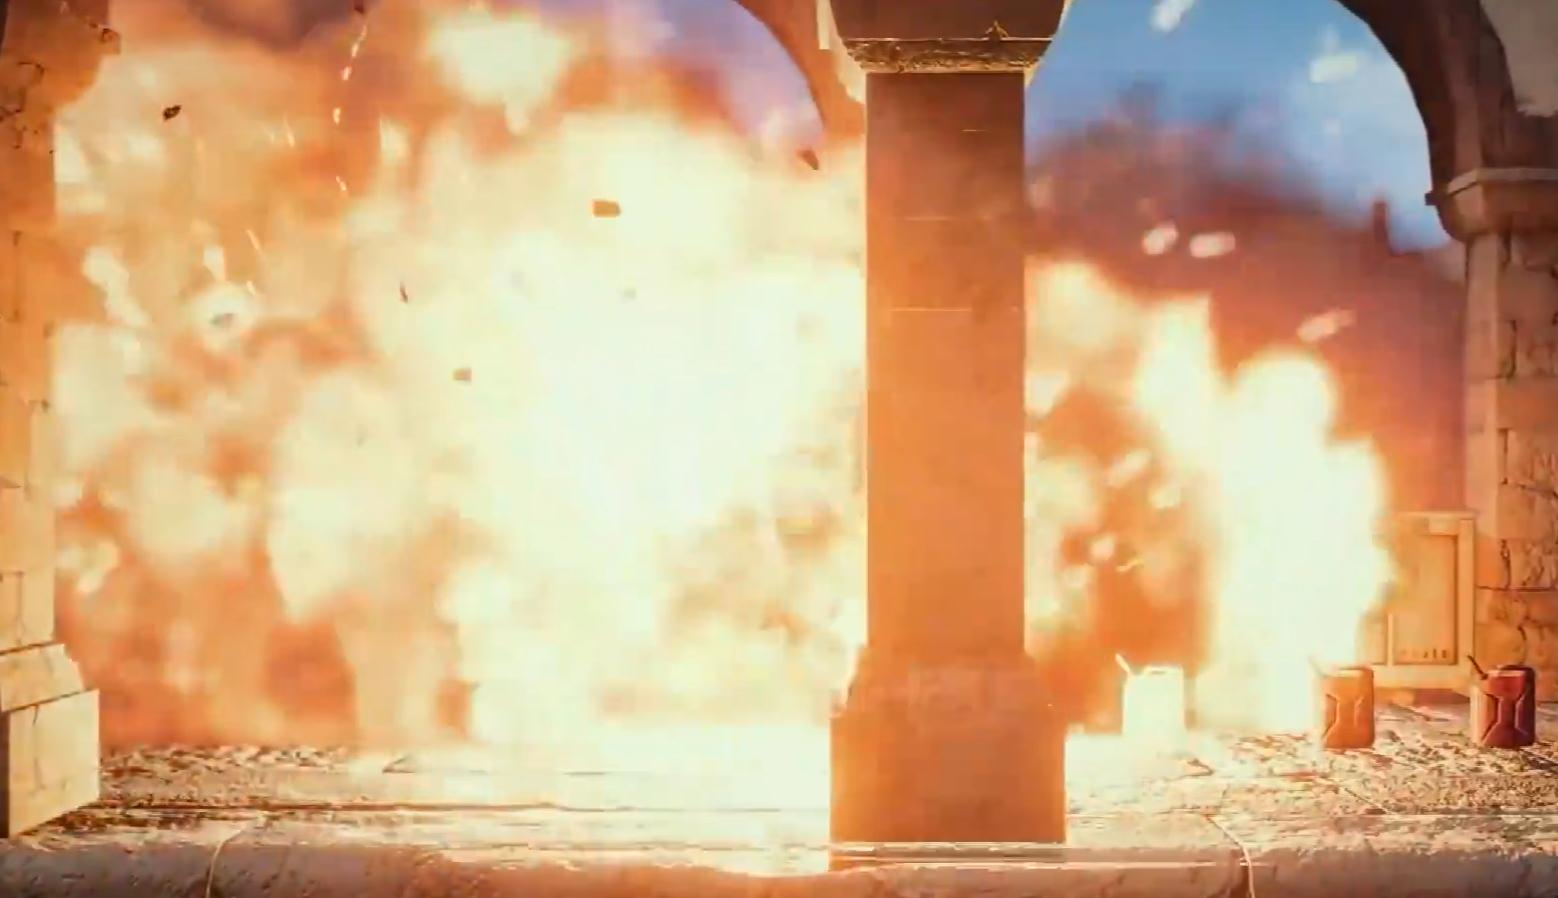fire: (52, 3, 1393, 823)
